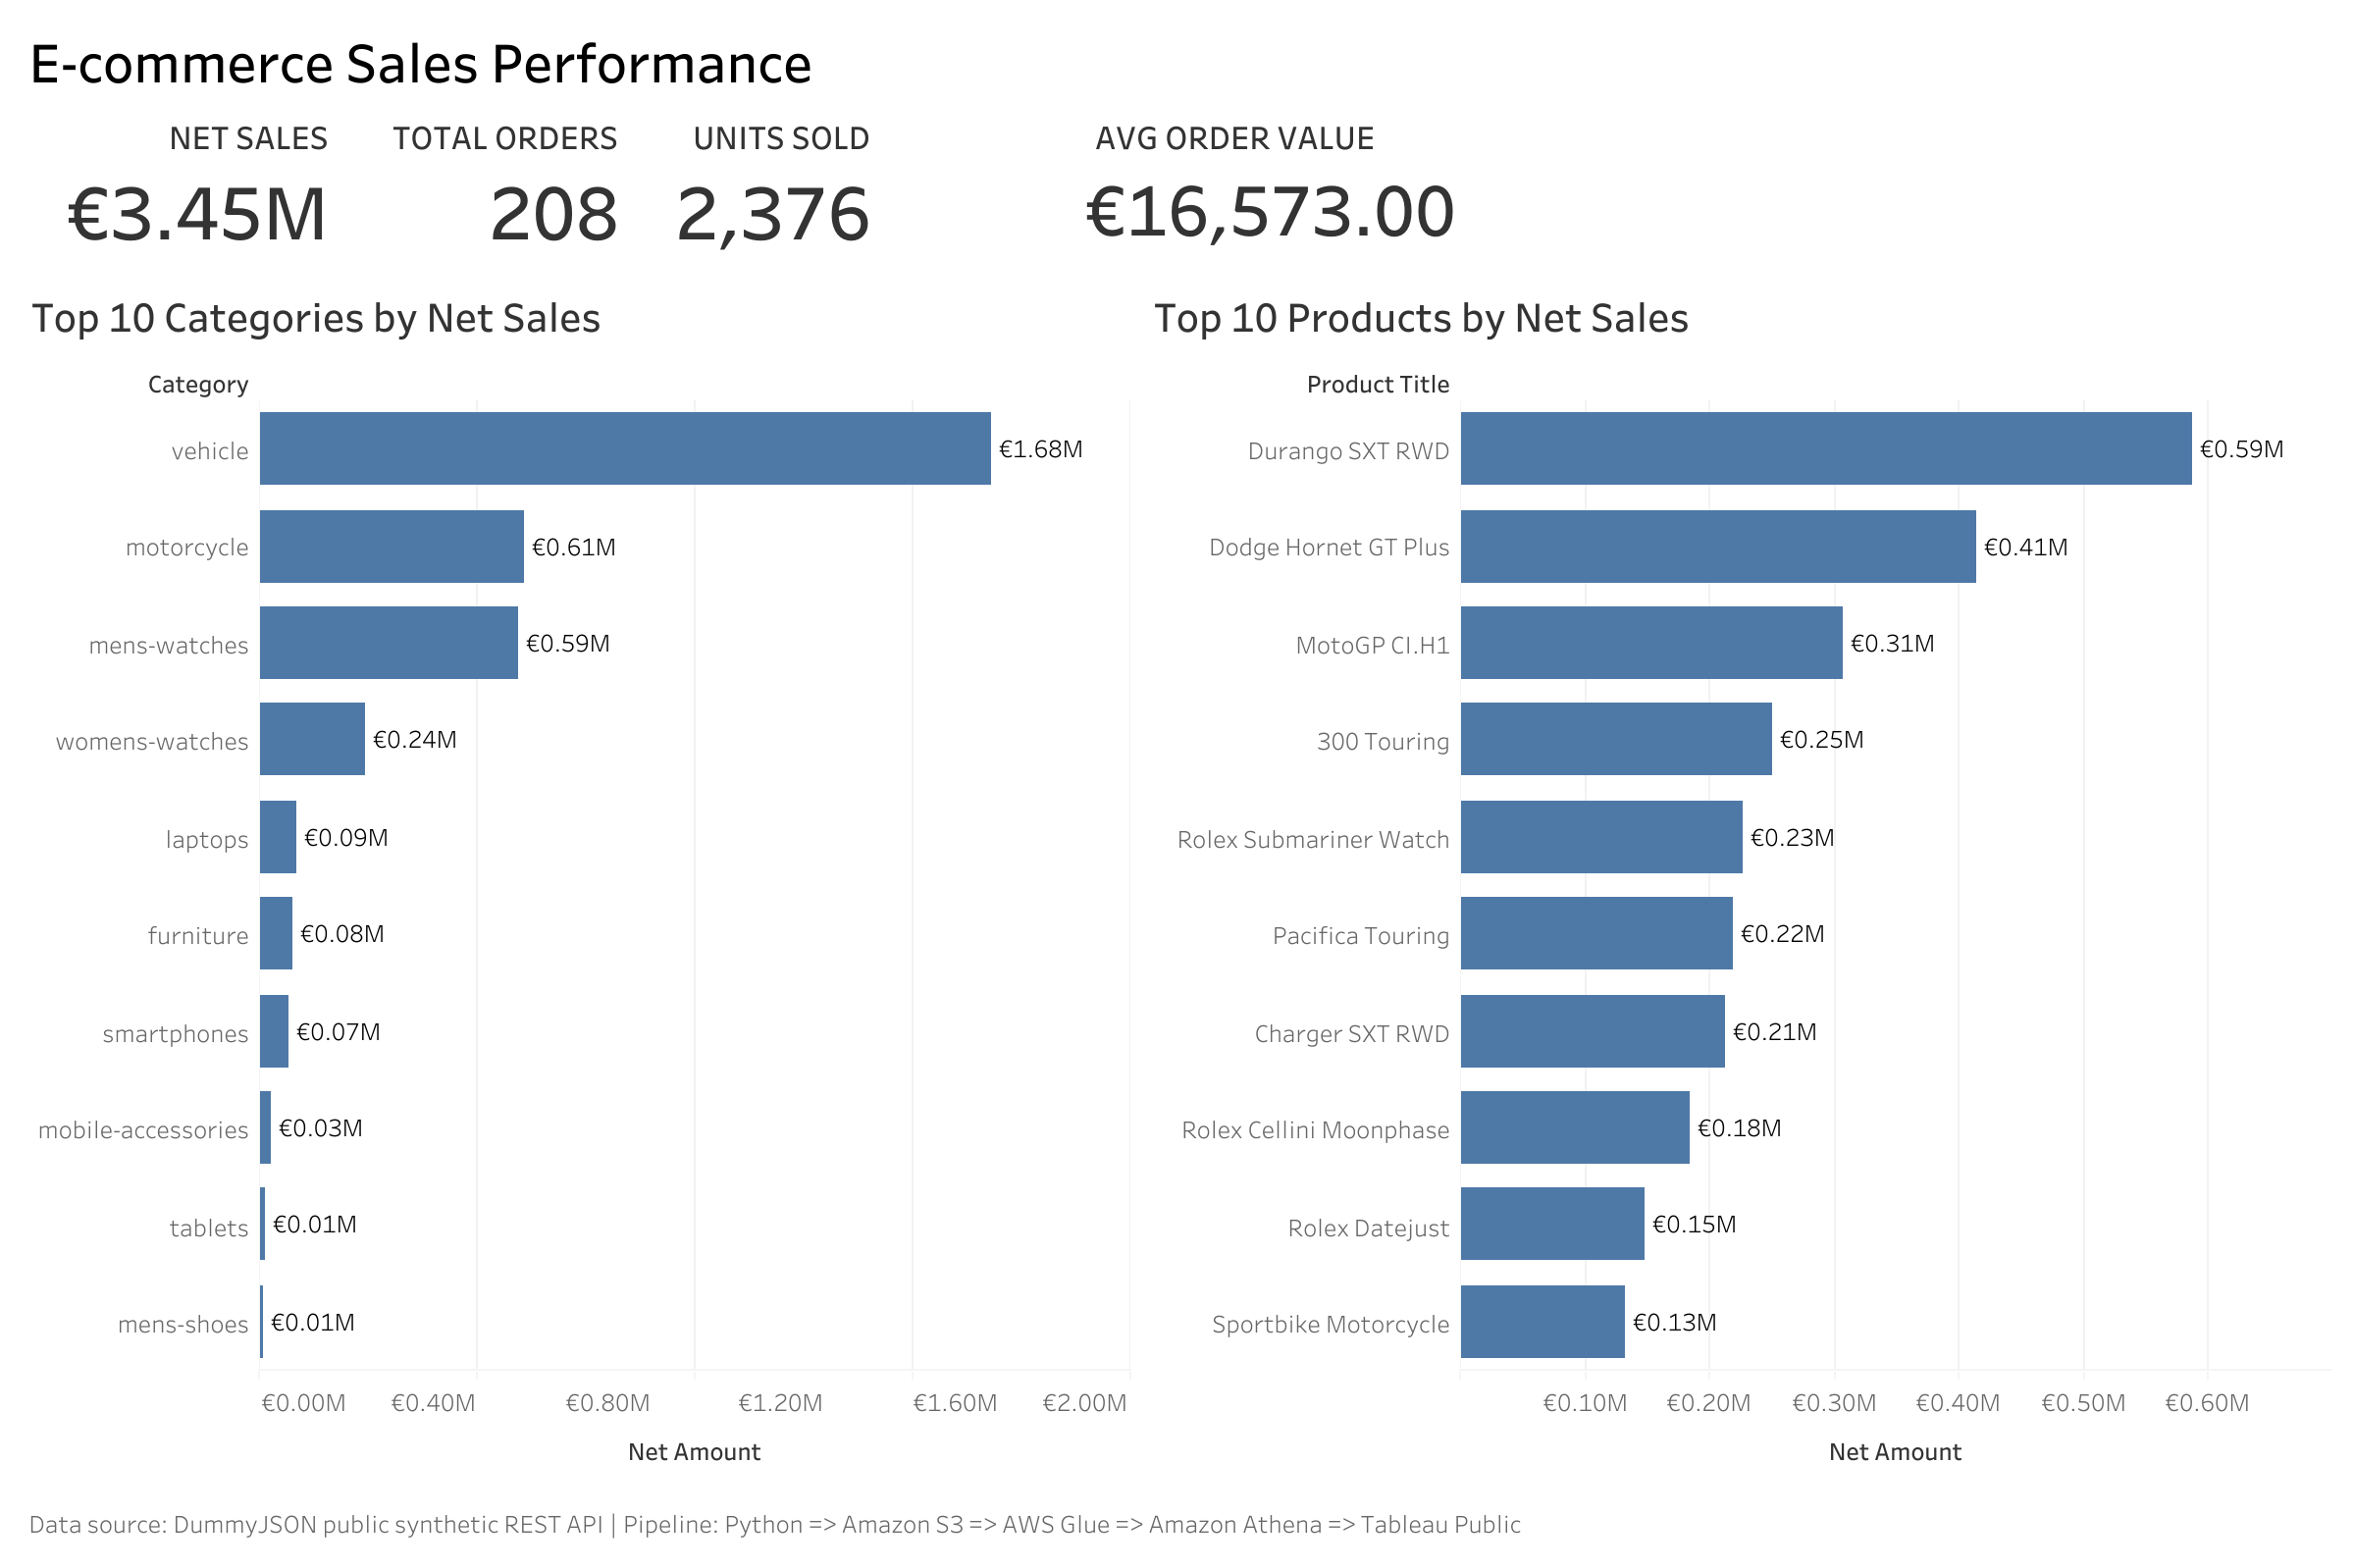

The dashboard page shown, as its layout file describes it:
{"tool":"tableau","page":{"name":"E-commerce Sales Dashboard","canvas":[1200,800],"ordinal":0},"visuals":[{"type":"title","box":[8,8,1184,45]},{"type":"worksheet","title":"KPI - Net Sales","mark":"Automatic","box":[8,53,168,81]},{"type":"worksheet","title":"KPI - Orders","mark":"Automatic","box":[176,53,148,81]},{"type":"worksheet","title":"KPI - Units Sold","mark":"Automatic","box":[324,53,165,81]},{"type":"worksheet","title":"KPI - Avg Order Value","mark":"Automatic","box":[489,53,274,81]},{"type":"worksheet","title":"Sales by Category","mark":"Automatic","rows":["category"],"cols":["net_amount"],"box":[8,134,572,626]},{"type":"worksheet","title":"Top Products","mark":"Automatic","rows":["product_title"],"cols":["net_amount"],"box":[580,134,612,626]},{"type":"text","box":[8,760,1184,32]}]}

Visuals, with their boxes in screenshot pixels (x1, y1, x2, y2), scaled from the page's 1200x800 canvas onto the 2353x1568 screenshot:
title: BBox(16, 16, 2337, 104)
"KPI - Net Sales" worksheet: BBox(16, 104, 345, 263)
"KPI - Orders" worksheet: BBox(345, 104, 635, 263)
"KPI - Units Sold" worksheet: BBox(635, 104, 959, 263)
"KPI - Avg Order Value" worksheet: BBox(959, 104, 1496, 263)
"Sales by Category" worksheet: BBox(16, 263, 1137, 1490)
"Top Products" worksheet: BBox(1137, 263, 2337, 1490)
text: BBox(16, 1490, 2337, 1552)
